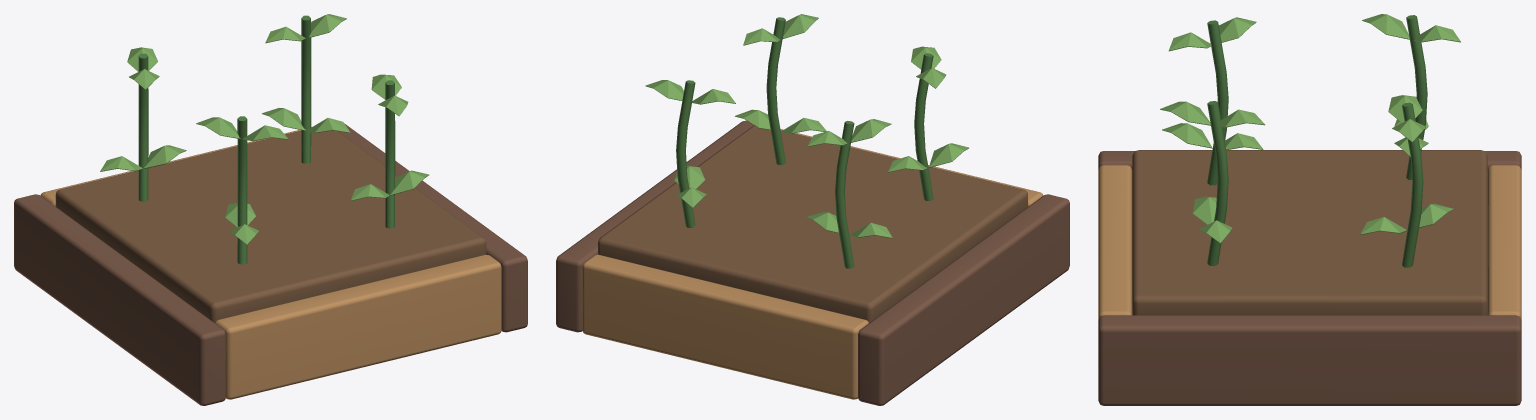
File: garden.herb.mint-harvested.glb
3 views of the same model, side by side, from view 1: azimuth 30°, elevation 25°; view 2: azimuth 150°, elevation 25°; view 3: azimuth 270°, elevation 25° (orthographic). The views are drawn at different scales.
Visible parts, largest first — view 1: Cedar raised bed rail; view 2: Cedar raised bed rail; view 3: Cedar raised bed rail.
Boxes of the visible parts, box(x1,y1,x2,y2) form: Cedar raised bed rail: box(14, 14, 527, 405); Cedar raised bed rail: box(556, 14, 1069, 405); Cedar raised bed rail: box(1098, 14, 1521, 405).
Size of the model in its own units: 1 by 0.6717 by 1.
